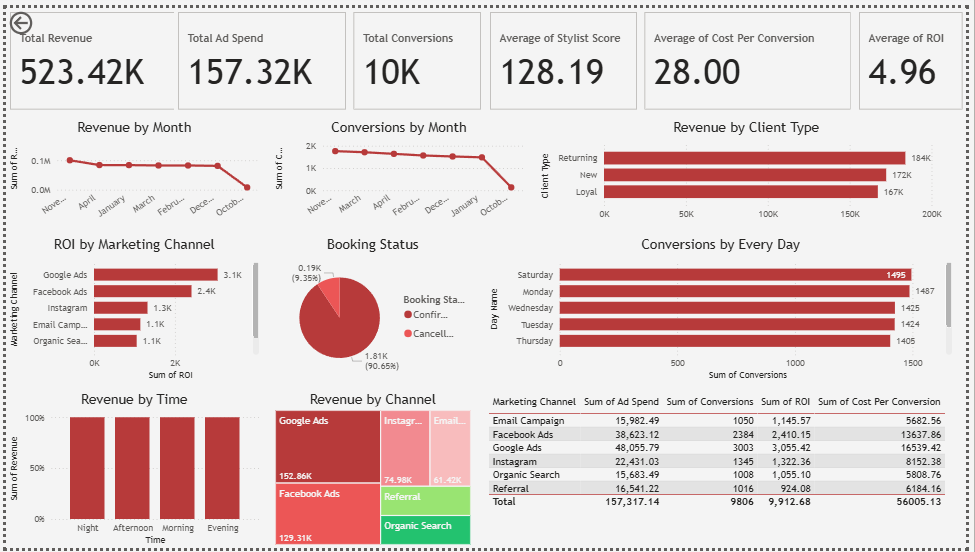

The page's visual inventory and layout, read from the dashboard file:
{"tool":"powerbi","page":{"name":"Page 1","canvas":[1280,720],"ordinal":0},"visuals":[{"type":"cardVisual","fields":{"Data":["Sum(Sheet1.Revenue)"]},"box":[0,0,236.6,140],"z":0},{"type":"cardVisual","fields":{"Data":["Sum(Sheet1.Ad Spend)"]},"box":[224.4,0,234.1,140],"z":1000},{"type":"cardVisual","fields":{"Data":["Sum(Sheet1.Conversions)"]},"box":[458.5,0,180.5,140],"z":2000},{"type":"cardVisual","fields":{"Data":["Avg(Sheet1.Cost Per Conversion)"]},"box":[846.3,0,285.4,140],"z":3000},{"type":"cardVisual","fields":{"Data":["Avg(Sheet1.ROI)"]},"box":[1131.7,0,148.8,140],"z":4000},{"type":"cardVisual","fields":{"Data":["Avg(Sheet1.Stylist Score)"]},"box":[640,0,206,140],"z":5000},{"type":"lineChart","title":"Revenue by Month","fields":{"Category":["Sheet1.Month Name"],"Y":["Sum(Sheet1.Revenue)"]},"box":[0,148,342,142],"z":6000},{"type":"lineChart","title":"Conversions by Month ","fields":{"Category":["Sheet1.Month Name"],"Y":["Sum(Sheet1.Conversions)"]},"box":[354,148,340,142],"z":7000},{"type":"barChart","title":"ROI by Marketing Channel","fields":{"Category":["Sheet1.Marketing Channel"],"Y":["Sum(Sheet1.ROI)"]},"box":[0,304,342,196],"z":8000},{"type":"barChart","title":"Revenue by Client Type","fields":{"Category":["Sheet1.Client Type"],"Y":["Sum(Sheet1.Revenue)"]},"box":[708,148,558,142],"z":9000},{"type":"pieChart","title":"Booking Status","fields":{"Category":["Sheet1.Booking Status"],"Y":["CountNonNull(Sheet1.Index)"]},"box":[354,304,270,196],"z":10000},{"type":"barChart","title":"Conversions by Every Day ","fields":{"Y":["Sum(Sheet1.Conversions)"],"Category":["Sheet1.Day Name"]},"box":[640,304,626,196],"z":11000},{"type":"hundredPercentStackedColumnChart","title":"Revenue by Time","fields":{"Category":["Sheet1.Time"],"Y":["Sum(Sheet1.Revenue)"]},"box":[0,510,342,210],"z":12000},{"type":"treemap","title":"Revenue by Channel","fields":{"Group":["Sheet1.Marketing Channel"],"Values":["Sum(Sheet1.Revenue)"]},"box":[354,510,270,210],"z":13000},{"type":"tableEx","fields":{"Values":["Sheet1.Marketing Channel","Sum(Sheet1.Ad Spend)","Sum(Sheet1.Conversions)","Sum(Sheet1.ROI)","Sum(Sheet1.Cost Per Conversion)"]},"box":[638,510,642,210],"z":14000},{"type":"actionButton","box":[0,0,100,40],"z":15000}]}

Visuals, with their boxes in screenshot pixels (x1, y1, x2, y2), scaled from the page's 1280x720 canvas onto the 975x552 screenshot:
cardVisual - Sum(Sheet1.Revenue): bbox=[0, 0, 180, 107]
cardVisual - Sum(Sheet1.Ad Spend): bbox=[171, 0, 349, 107]
cardVisual - Sum(Sheet1.Conversions): bbox=[349, 0, 487, 107]
cardVisual - Avg(Sheet1.Cost Per Conversion): bbox=[645, 0, 862, 107]
cardVisual - Avg(Sheet1.ROI): bbox=[862, 0, 974, 107]
cardVisual - Avg(Sheet1.Stylist Score): bbox=[488, 0, 644, 107]
"Revenue by Month" lineChart: bbox=[0, 113, 261, 222]
"Conversions by Month " lineChart: bbox=[270, 113, 529, 222]
"ROI by Marketing Channel" barChart: bbox=[0, 233, 261, 383]
"Revenue by Client Type" barChart: bbox=[539, 113, 964, 222]
"Booking Status" pieChart: bbox=[270, 233, 475, 383]
"Conversions by Every Day " barChart: bbox=[488, 233, 964, 383]
"Revenue by Time" hundredPercentStackedColumnChart: bbox=[0, 391, 261, 551]
"Revenue by Channel" treemap: bbox=[270, 391, 475, 551]
tableEx - Sheet1.Marketing Channel x Sum(Sheet1.Ad Spend): bbox=[486, 391, 974, 551]
actionButton: bbox=[0, 0, 76, 31]
